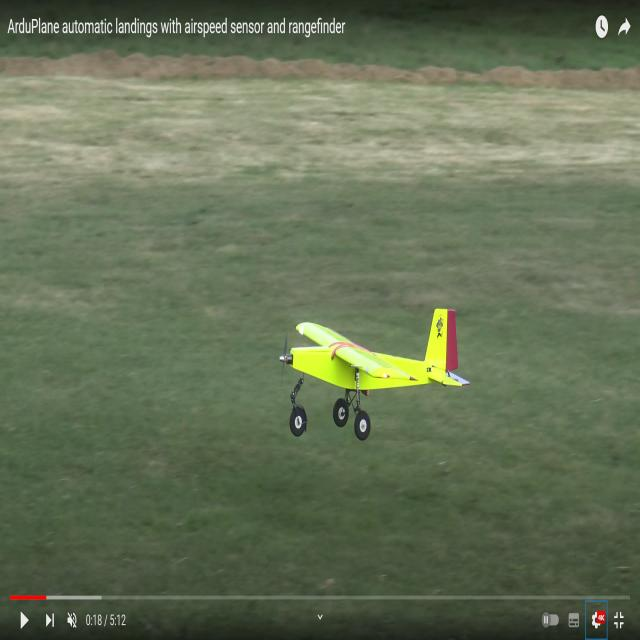iha: (282, 343, 478, 407)
